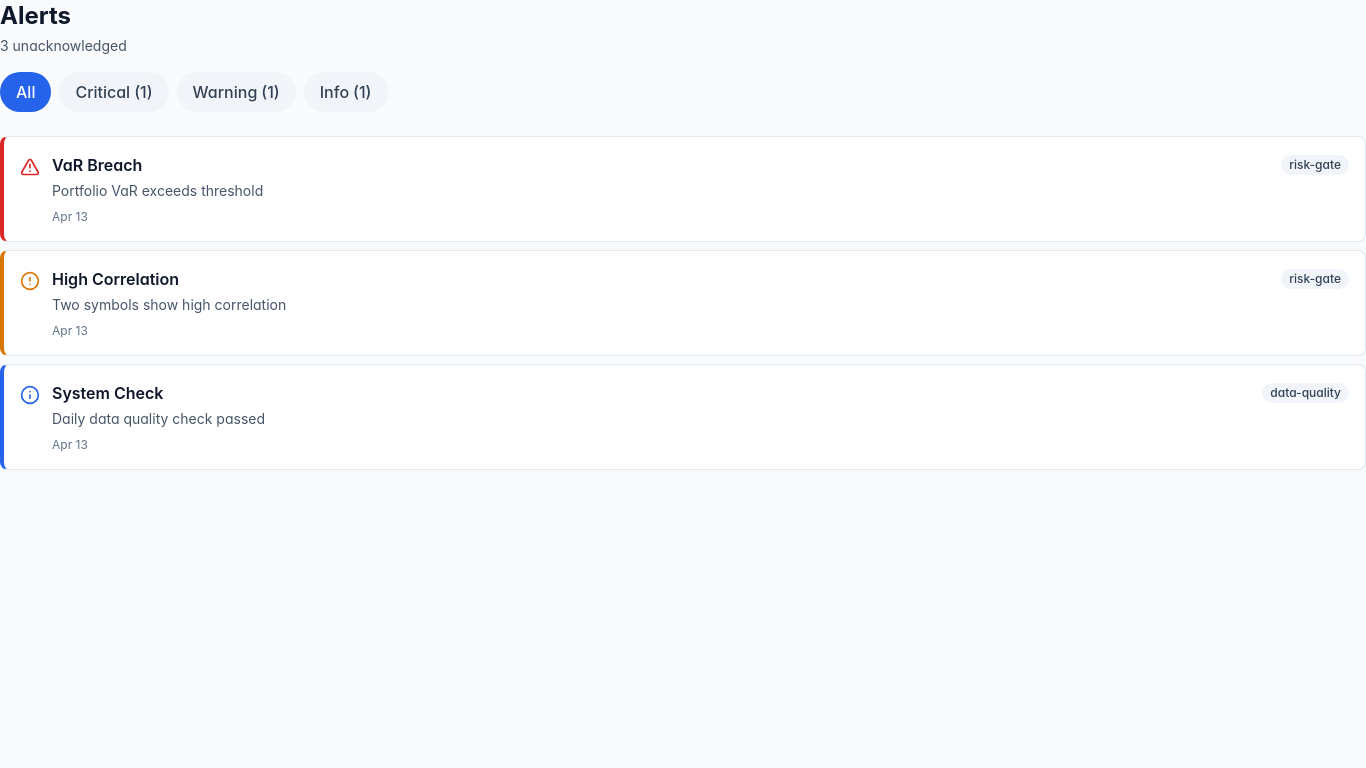
Test: AlertsPage › detail view › closes detail BottomSheet when close button is clicked
This screenshot has width=1366, height=768.
Click the heading "VaR Breach": (97, 165) [52, 153, 142, 177]
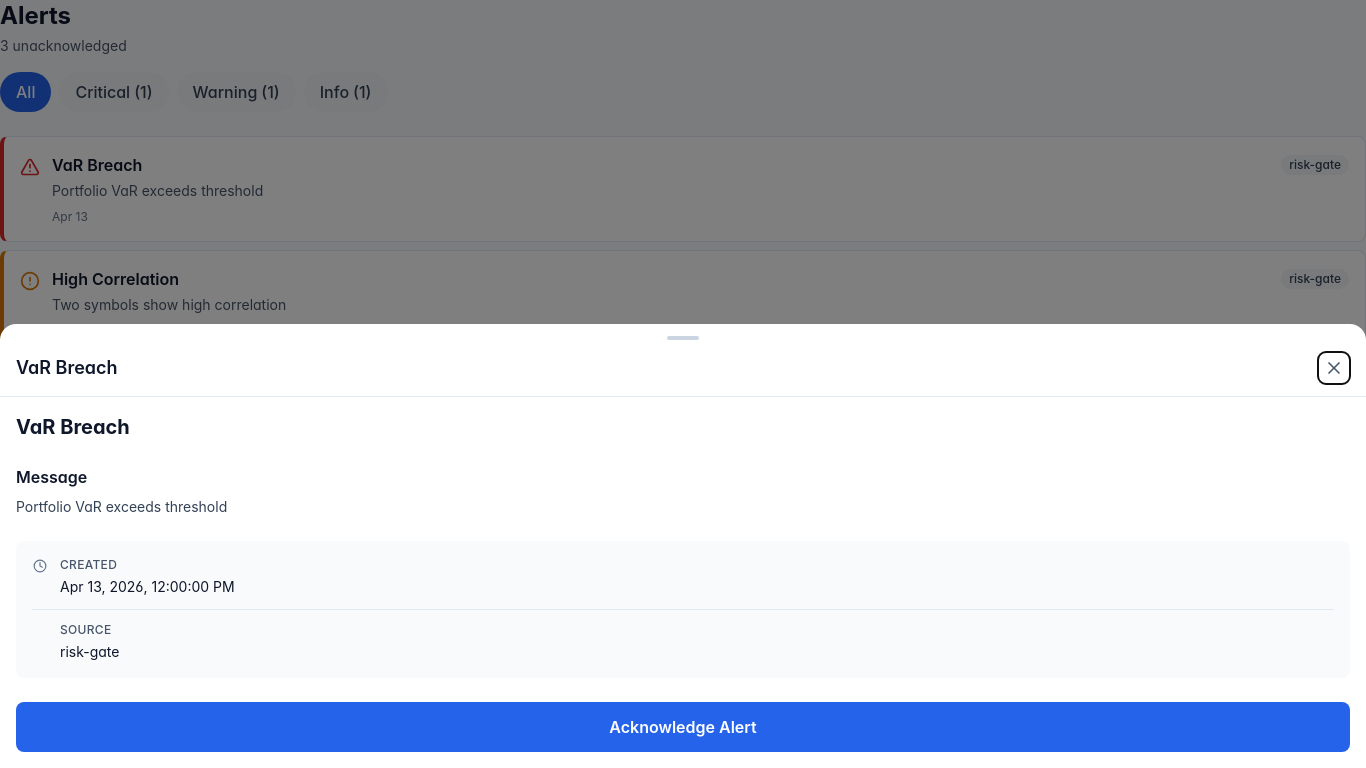
Now the dialog is shown, box [0, 324, 1365, 767]
Note: Find close button and click it
Click the button named "close": (1334, 368) [1318, 352, 1350, 384]
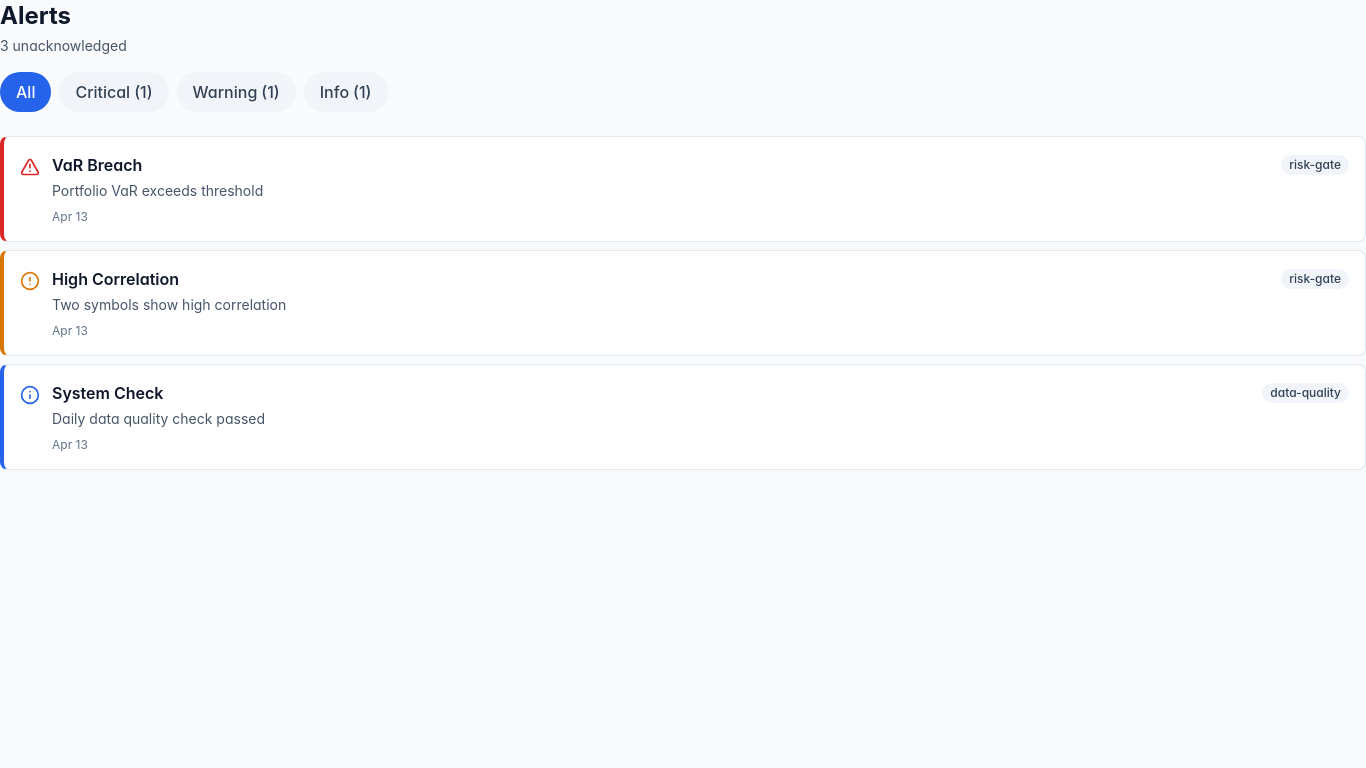
Now the dialog is gone
